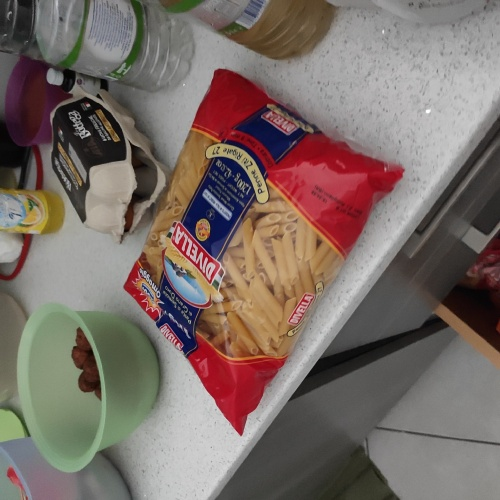pasta: (158, 93, 328, 405)
